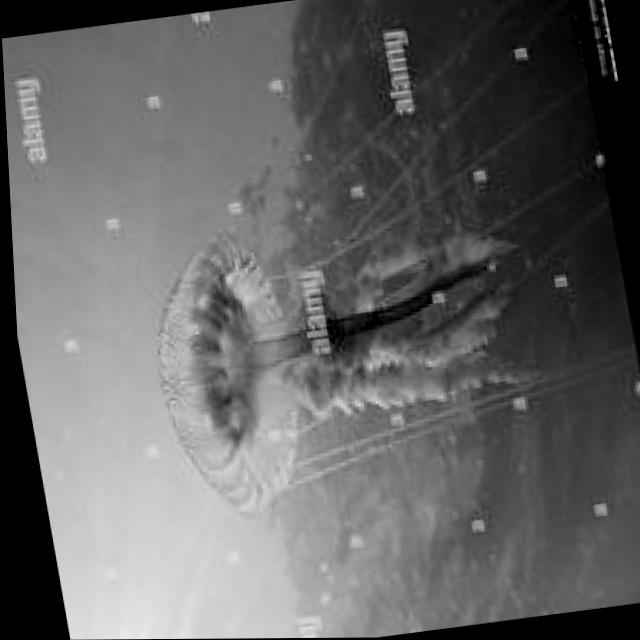Moon-jellyfish: (124, 190, 555, 525)
